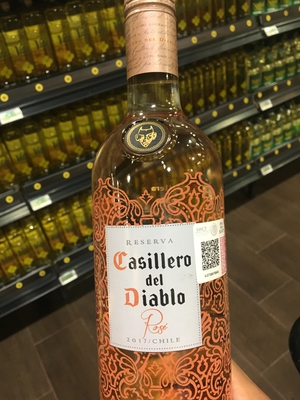casillero del diablo rose: (90, 7, 243, 400)
